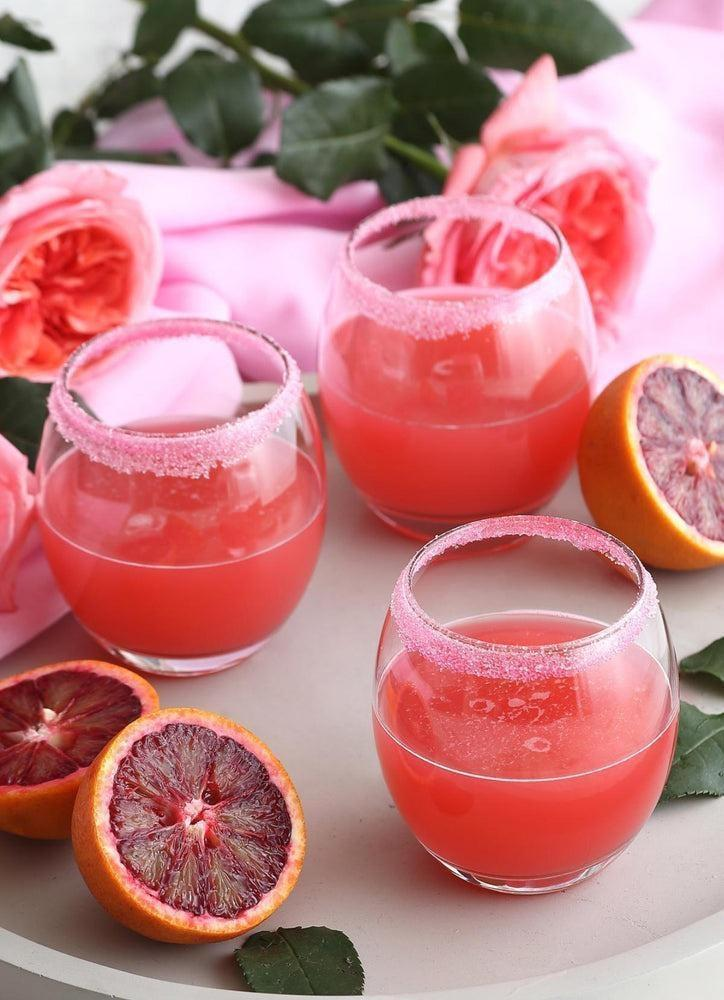glass-normal: (366, 512, 681, 895), (35, 314, 324, 679), (314, 192, 598, 540)
